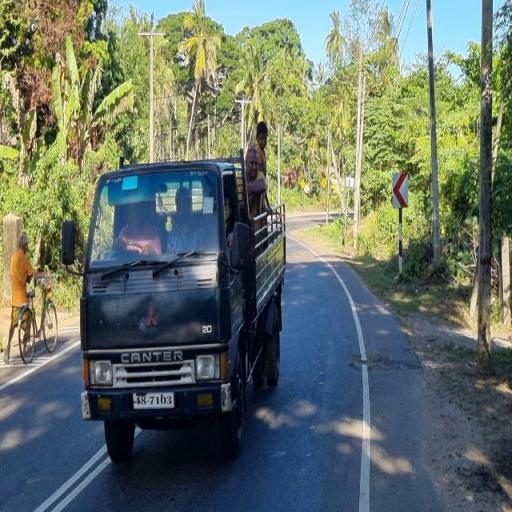double_white_line: (34, 449, 106, 510)
